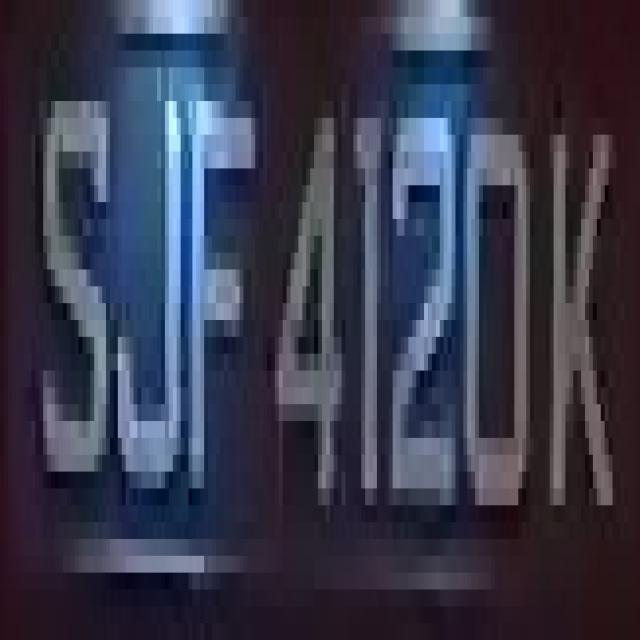0: (459, 67, 538, 556)
1: (353, 17, 385, 539)
2: (377, 84, 459, 556)
4: (271, 50, 353, 572)
F: (189, 50, 259, 539)
J: (114, 34, 184, 522)
K: (538, 50, 620, 572)
S: (35, 67, 106, 539)
